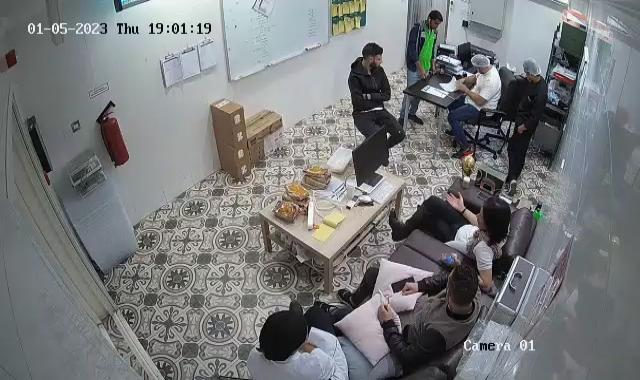hairnet: (521, 54, 542, 82), (472, 53, 491, 77)
no_hairnet: (259, 304, 311, 364), (478, 199, 512, 248), (448, 262, 478, 314), (359, 43, 384, 66), (424, 12, 444, 26)
